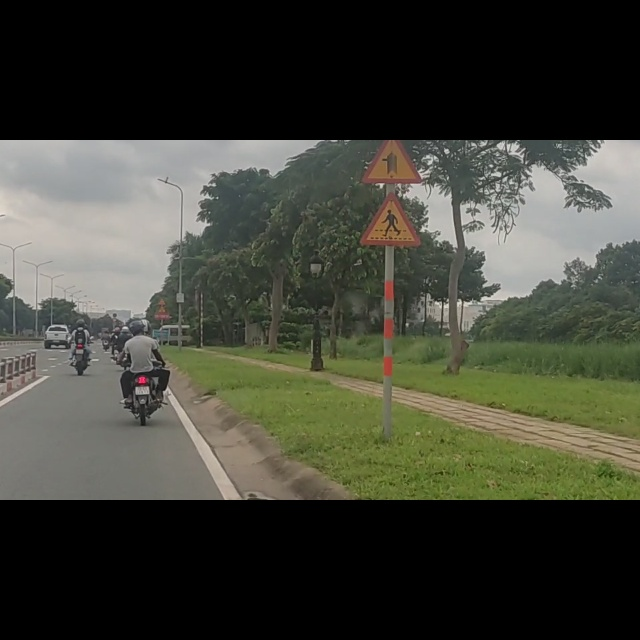bien_cam: (360, 91, 422, 188), (361, 1, 424, 76)
